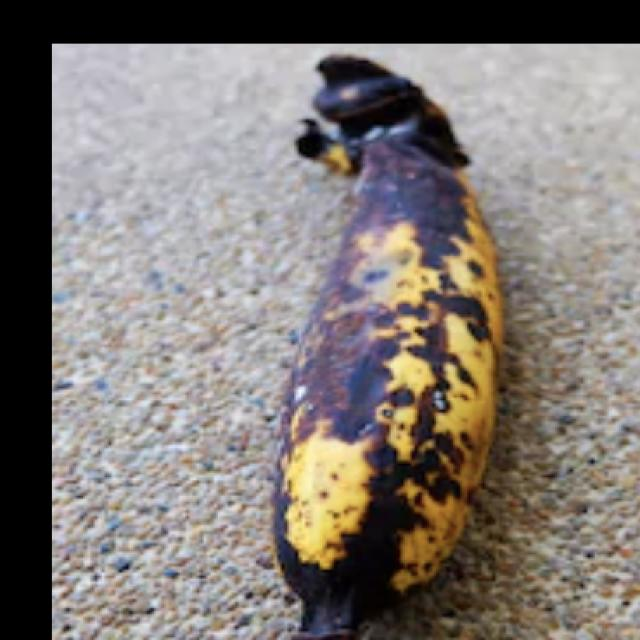Rotten: (228, 52, 536, 640)
